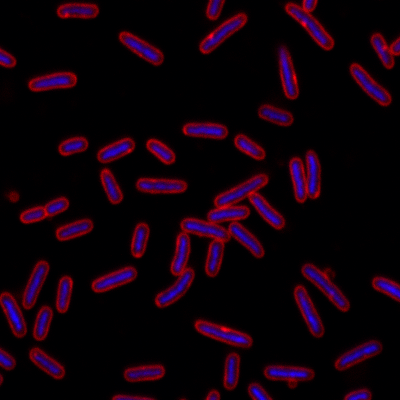Oblique: (275, 41, 303, 101)
Rifampicin: (283, 0, 336, 52), (300, 260, 350, 312), (198, 10, 248, 56), (211, 171, 269, 209), (192, 316, 255, 350), (348, 60, 392, 108), (292, 282, 326, 340), (116, 28, 165, 67), (151, 267, 196, 307), (247, 188, 286, 232), (19, 194, 72, 225), (333, 338, 382, 371), (26, 343, 67, 382), (227, 220, 267, 259), (20, 259, 50, 309), (90, 265, 139, 295), (0, 290, 30, 339), (180, 215, 229, 243), (261, 362, 317, 385), (26, 70, 78, 93), (232, 131, 267, 164), (286, 157, 310, 205), (95, 136, 136, 164), (99, 166, 127, 206), (368, 30, 395, 71), (121, 361, 166, 384), (134, 176, 188, 195), (144, 136, 177, 166), (181, 120, 228, 141), (54, 217, 95, 241), (204, 205, 252, 225), (256, 103, 295, 127), (303, 149, 322, 198), (54, 1, 100, 21), (31, 303, 54, 343), (128, 221, 152, 258), (204, 236, 224, 280), (169, 232, 191, 272), (56, 274, 75, 314), (56, 135, 90, 156), (223, 351, 241, 390)
Vesicle: (8, 188, 20, 204)
